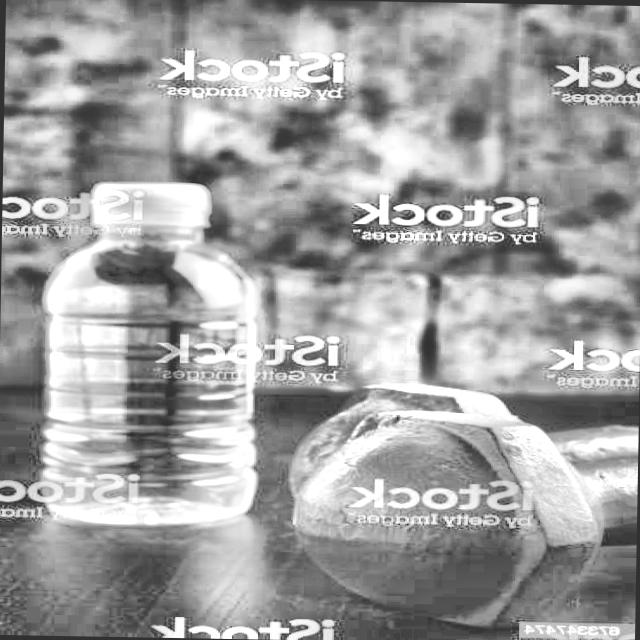waterbottle: (11, 173, 274, 534)
